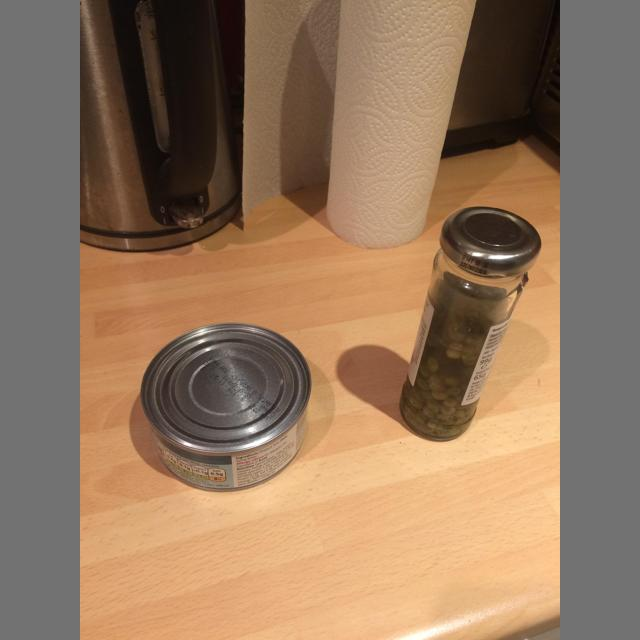litter: (243, 0, 477, 249), (400, 207, 542, 441), (141, 323, 311, 490), (439, 207, 541, 278)
